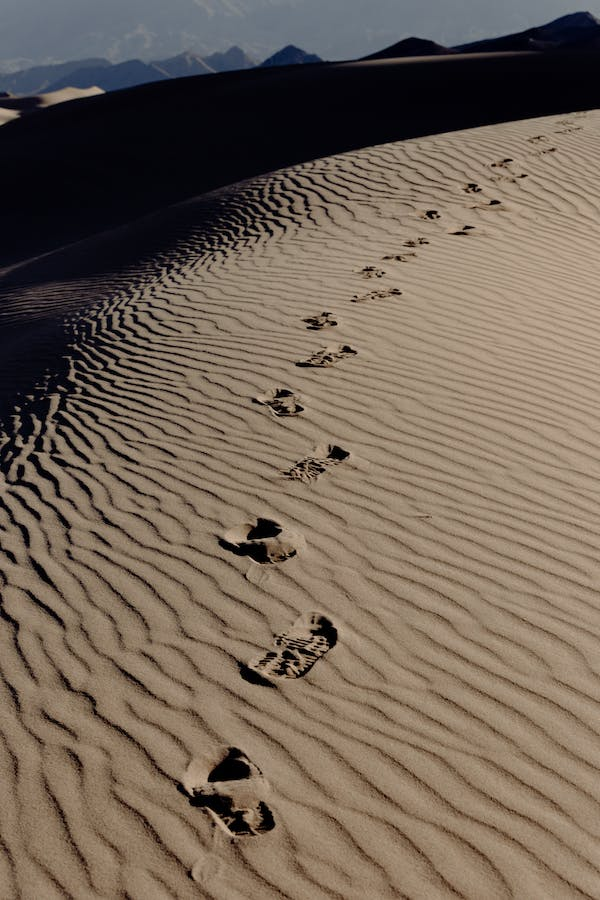human_footprint: (174, 118, 561, 858)
